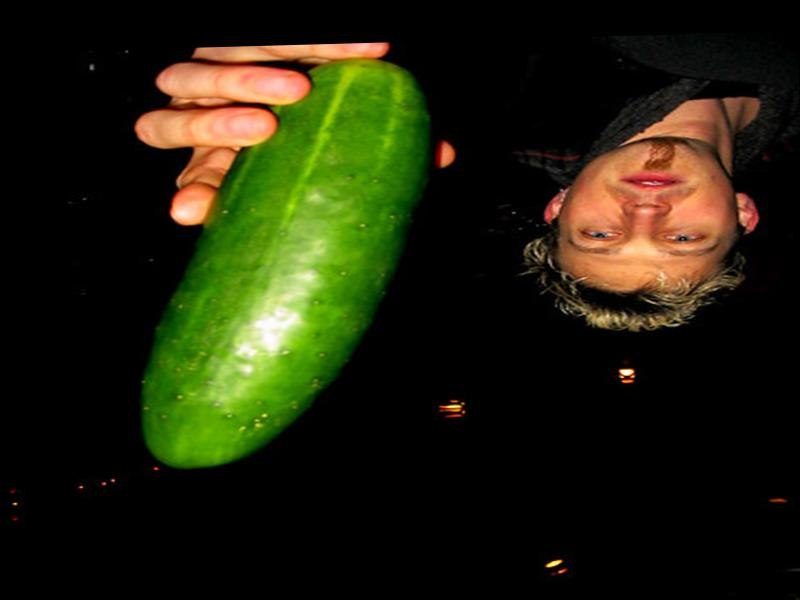Cucumber: (130, 60, 435, 467)
